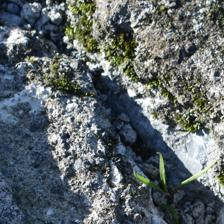Crack: (46, 34, 165, 184)
